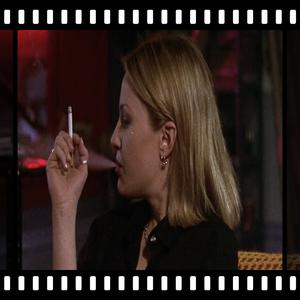cigarette: (66, 107, 72, 147)
